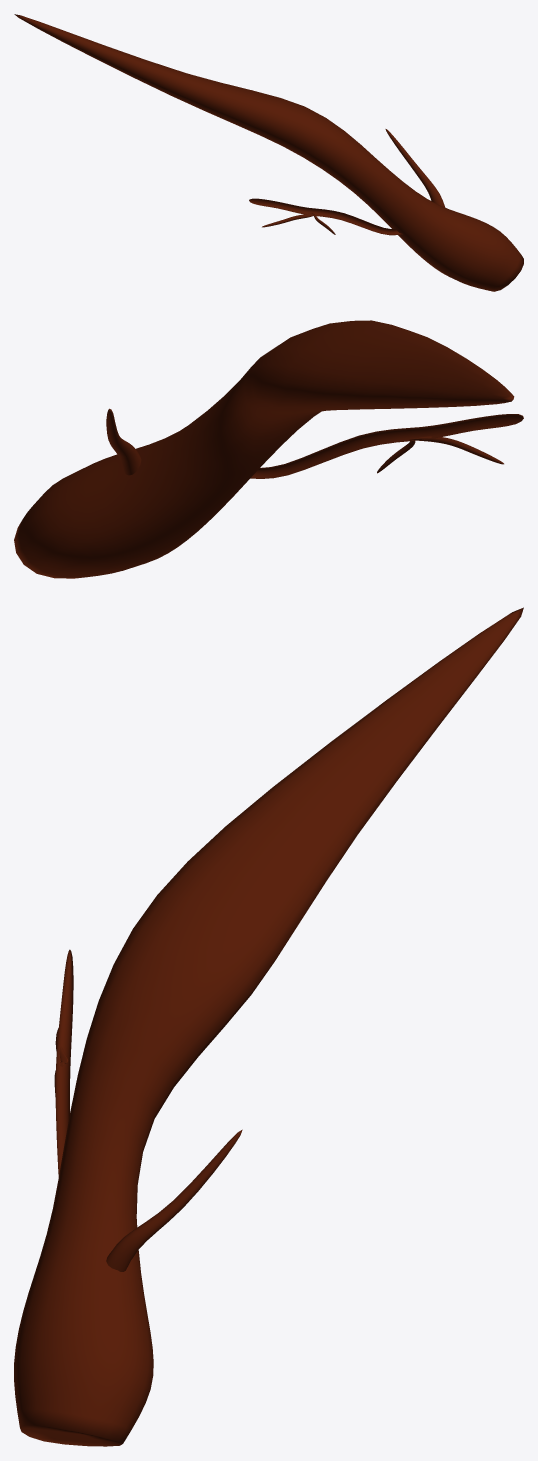
Rendered from branch.obj.
3 views of the same model, one above another, from view 1: azimuth 30°, elevation 25°; view 2: azimuth 150°, elevation 25°; view 3: azimuth 270°, elevation 25° (orthographic). The views are drawn at different scales.
Visible parts, largest first — view 1: BigTree.002_Cube.830; view 2: BigTree.002_Cube.830; view 3: BigTree.002_Cube.830.
Boxes of the visible parts, x1,y1,x2,y2 form: BigTree.002_Cube.830: [14, 14, 523, 291]; BigTree.002_Cube.830: [14, 320, 523, 578]; BigTree.002_Cube.830: [14, 607, 523, 1446].
Bounding box in the file's own units: 2.67 × 1.79 × 1.61.
